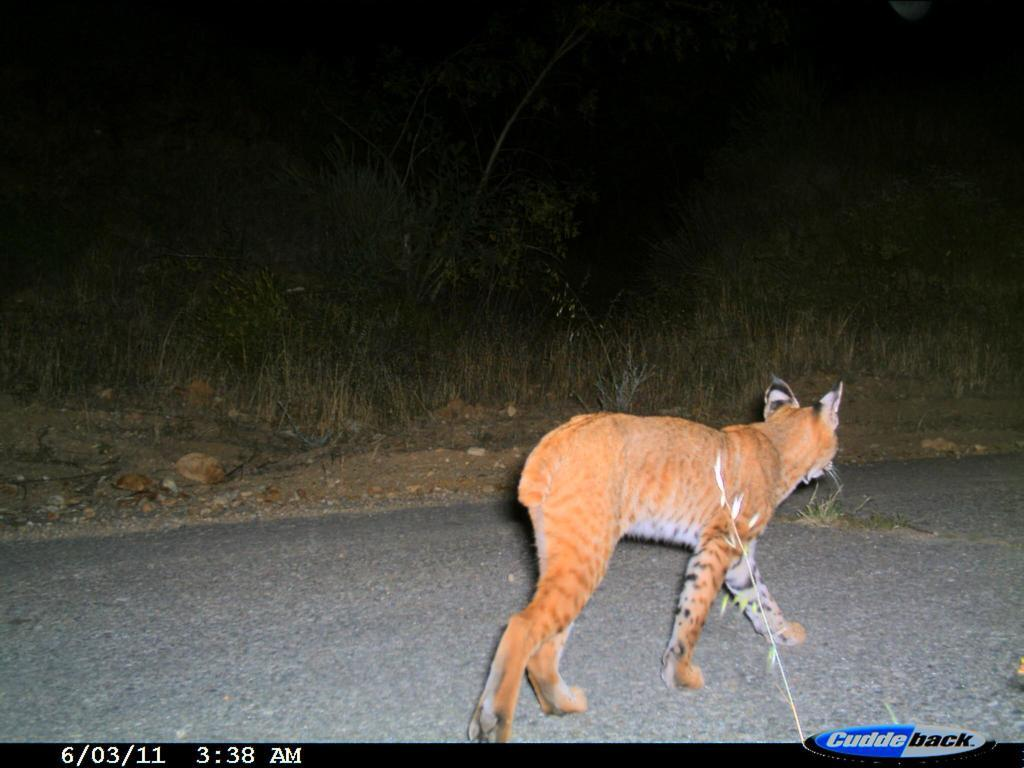bobcat: (460, 368, 858, 742)
